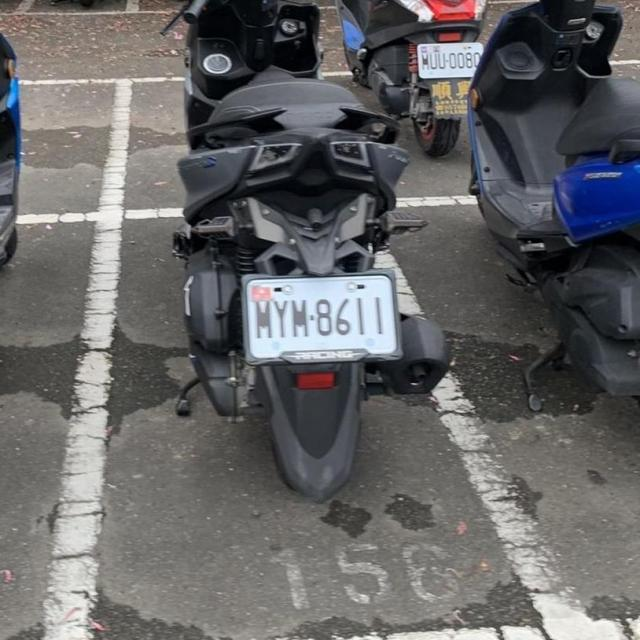W: (240, 270, 403, 366), (412, 34, 490, 81)
